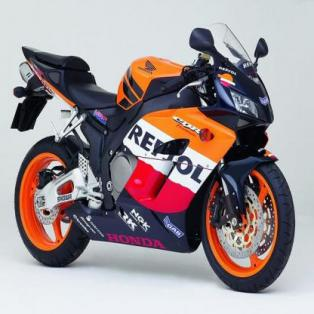Motocicleta: (9, 22, 298, 292)
